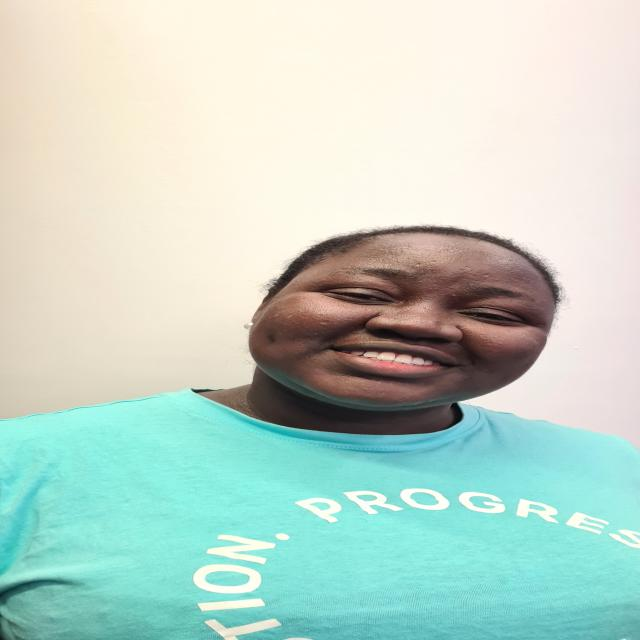happy: (230, 219, 582, 429)
